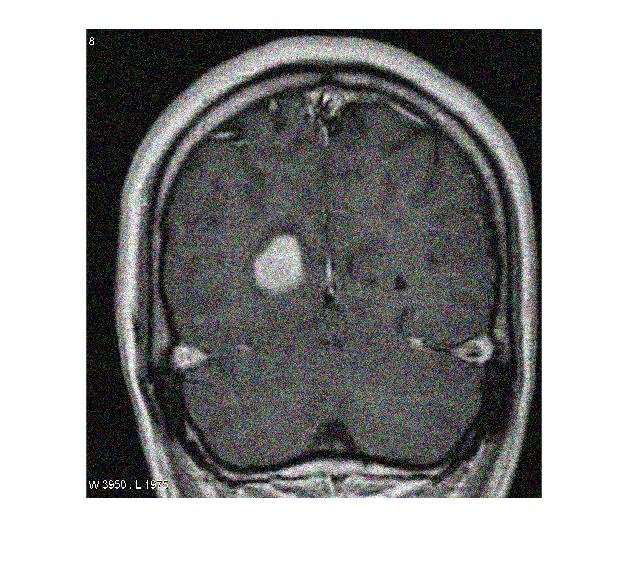Brain_Cancer: (246, 232, 310, 300)
